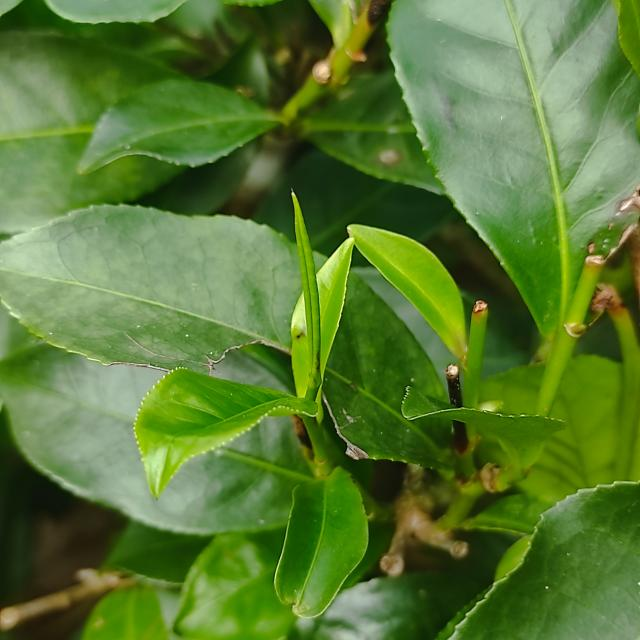unopened_leaf: (284, 186, 328, 394)
